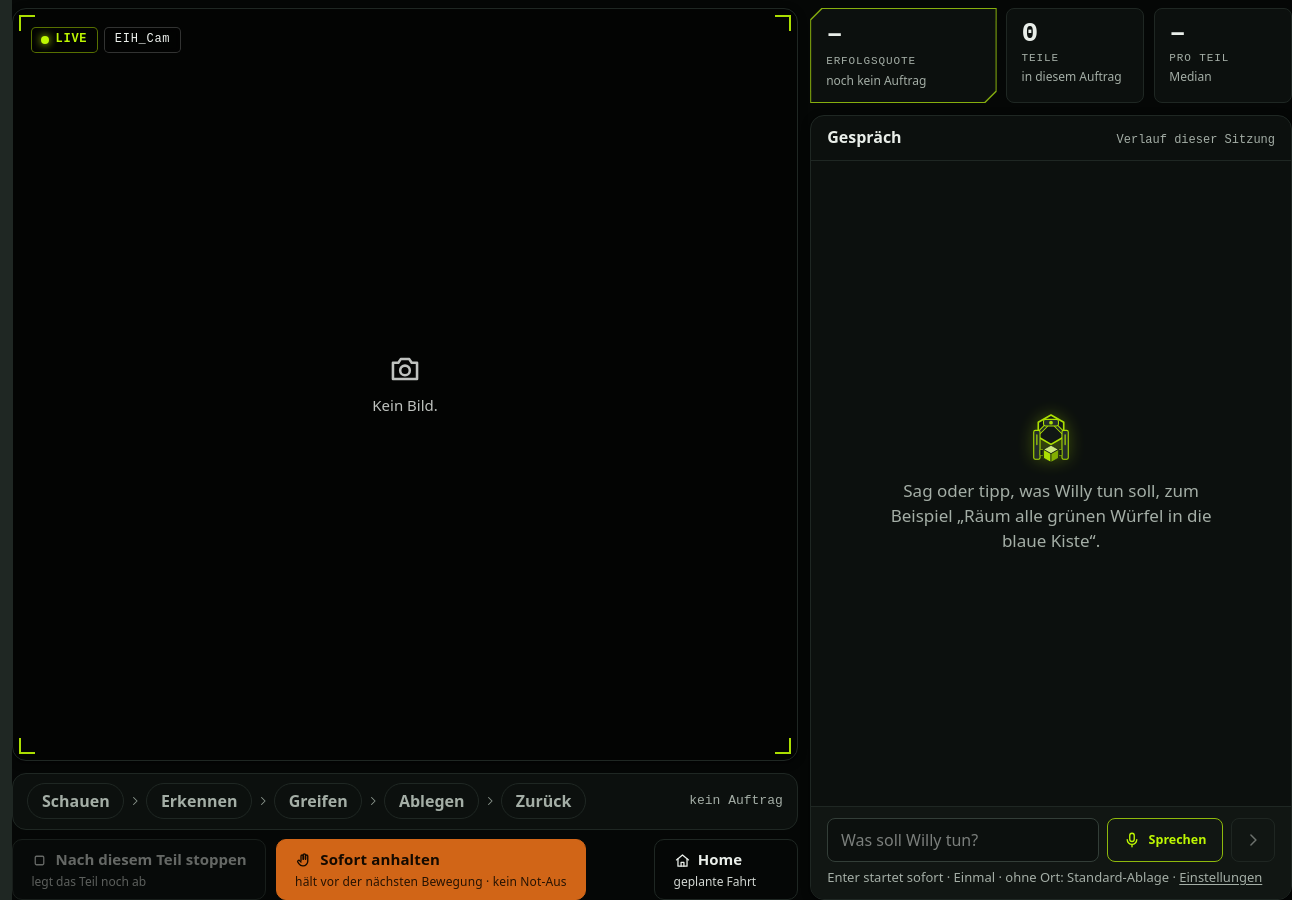
Test: Enter and a sort (the owner, 2026-10-09) › starts a clean sort at once with every rule, and says every rule it starts
(page scrolled)
Check: the text "Enter startet sofort" is shown, box x1=827 y1=868 x2=1169 y2=886
Type "Grüne Teile in die gelbe Kiste, rote in die blaue" into the field named "Befehl an Willy" at (963, 840), box x1=827 y1=818 x2=1099 y2=862
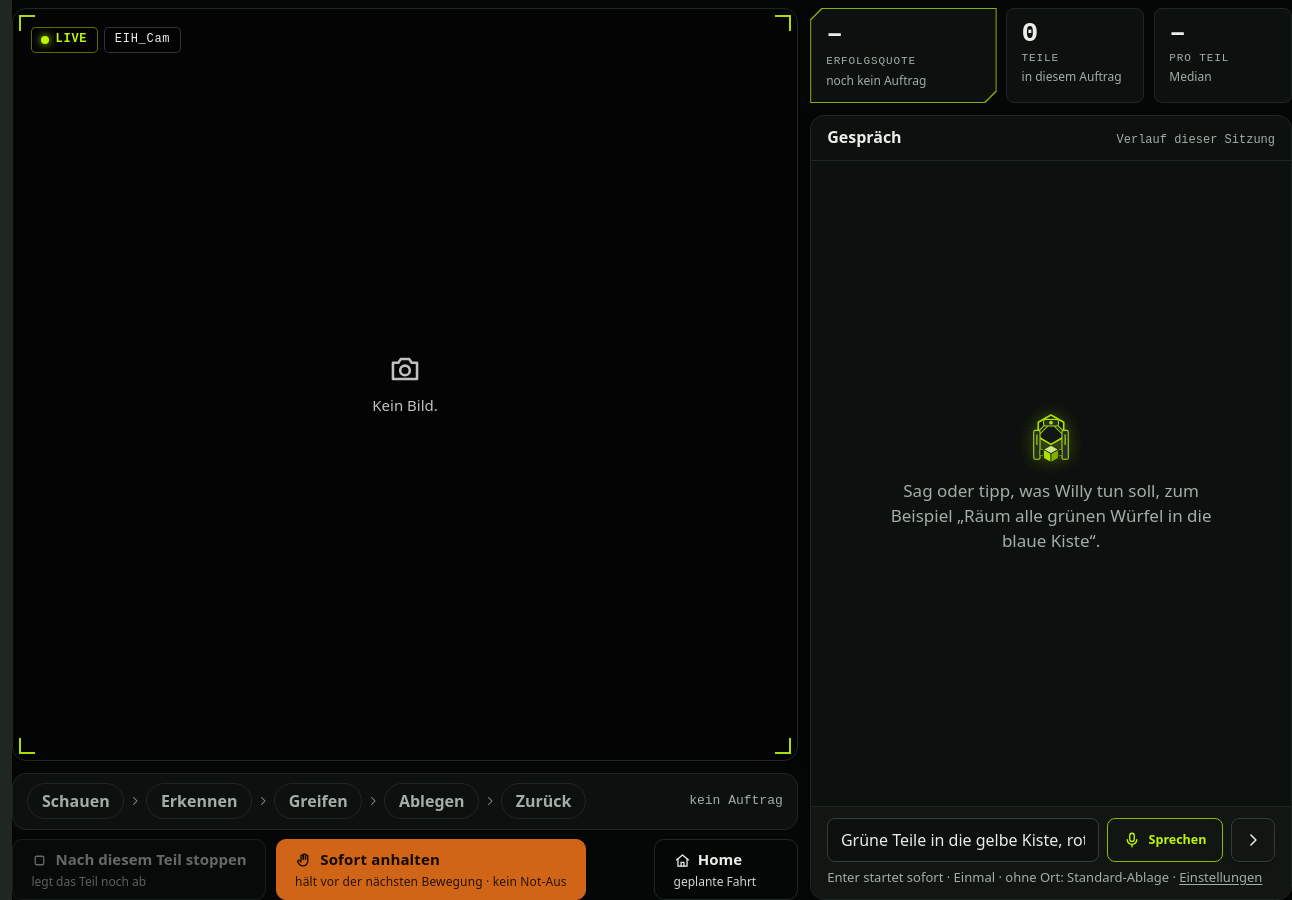
Press Enter in the field named "Befehl an Willy", box x1=827 y1=818 x2=1099 y2=862
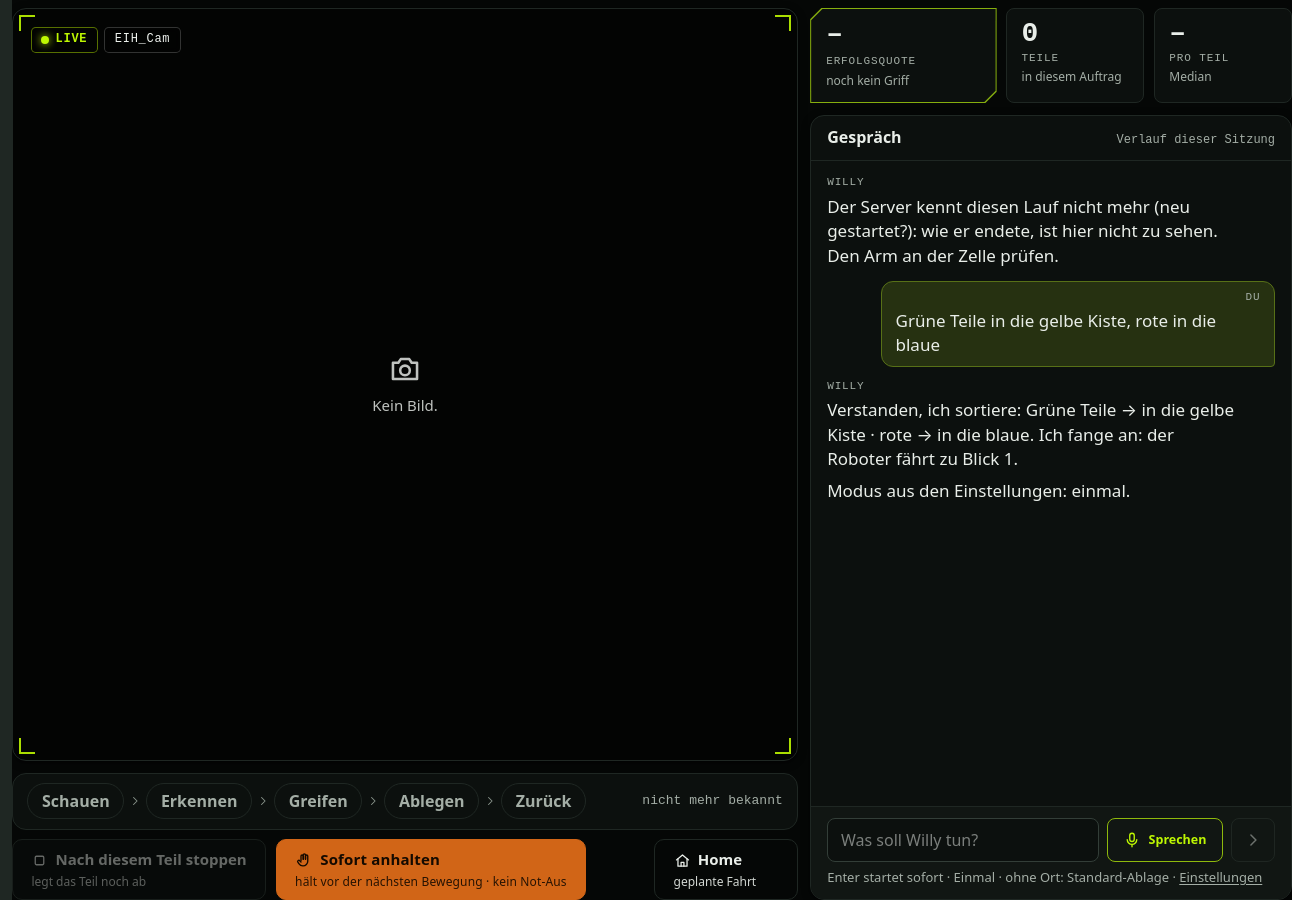
Check: the text "Verstanden, ich sortiere: Grüne Teile → in die gelbe Kiste · rote → in die blaue. Ich fange an: der Roboter fährt zu Bli" is shown, box x1=827 y1=398 x2=1234 y2=470
